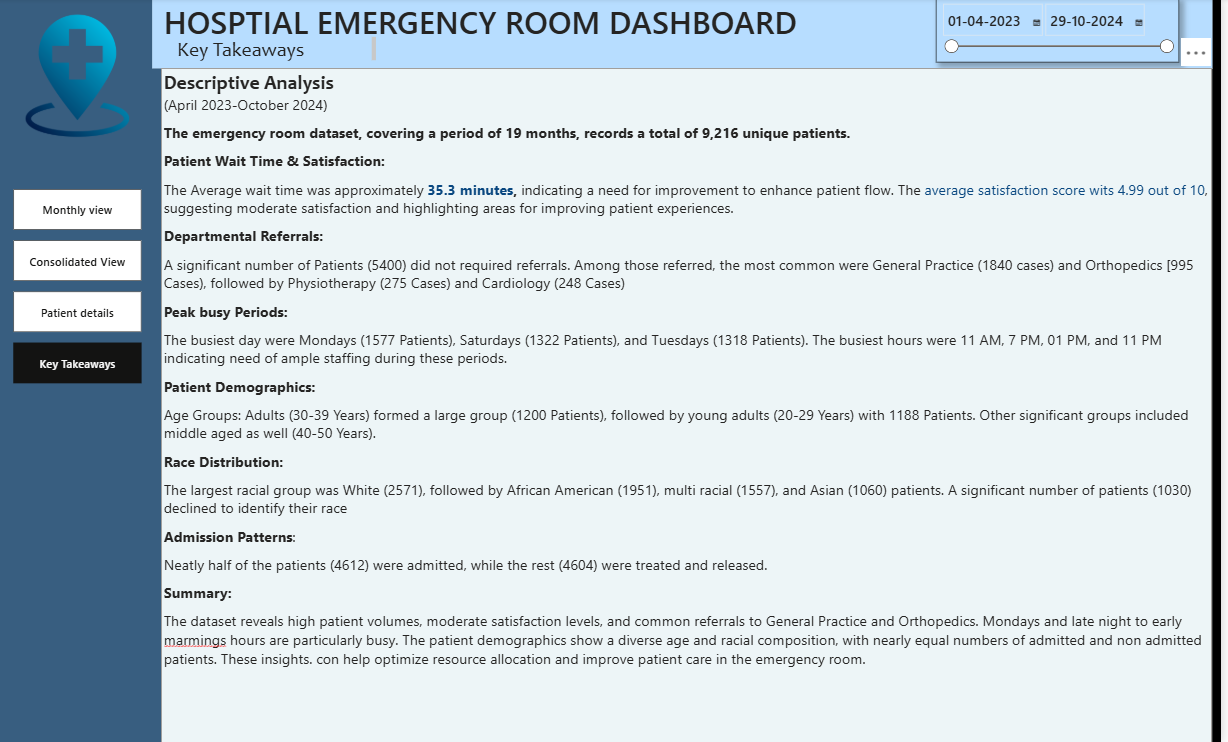

The page's visual inventory and layout, read from the dashboard file:
{"tool":"powerbi","page":{"name":"Key Takeaways","canvas":[2300,1400],"ordinal":3},"visuals":[{"type":"shape","box":[0,0,310,1400.5],"z":0},{"type":"shape","box":[292.7,0,1989.9,132.3],"z":1000},{"type":"textbox","box":[309.1,0,1217.4,90.4],"z":2000},{"type":"textbox","box":[335.3,69,382.8,54.7],"z":3000},{"type":"slicer","fields":{"Values":["Date Table.Date"]},"box":[1764.7,0,456,121],"z":4000},{"type":"image","box":[33.3,23.8,240.2,244.9],"z":5000},{"type":"textbox","box":[310,132,1973,1268],"z":6000},{"type":"pageNavigator","box":[33.3,359,240.2,366.2],"z":7000}]}

Visuals, with their boxes on the page's 2300x1400 design canvas (x1, y1, x2, y2). These are canvas units, not pixel positions in the 1228x742 screenshot, which may show the page scaled, cropped or inside an application window:
shape: crop(0, 0, 310, 1400)
shape: crop(293, 0, 2283, 132)
textbox: crop(309, 0, 1526, 90)
textbox: crop(335, 69, 718, 124)
slicer - Date Table.Date: crop(1765, 0, 2221, 121)
image: crop(33, 24, 274, 269)
textbox: crop(310, 132, 2283, 1400)
pageNavigator: crop(33, 359, 274, 725)
